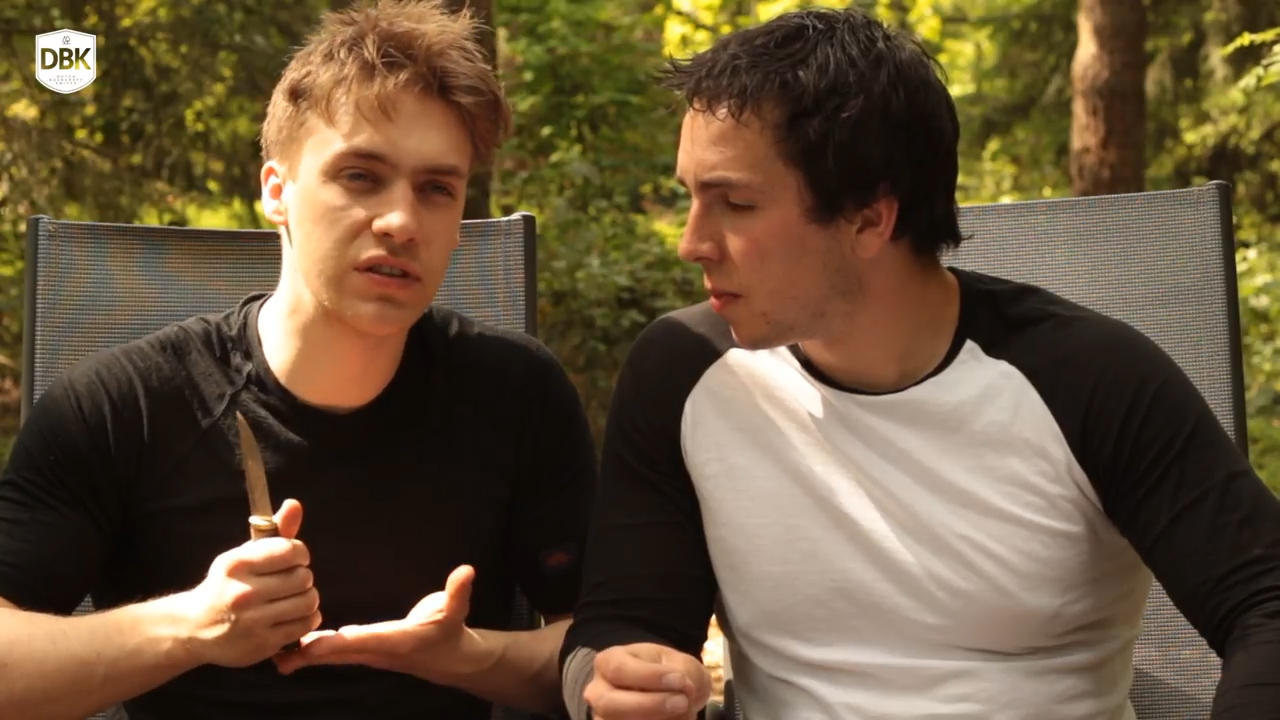knife: (208, 392, 332, 624)
